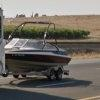Boat: (3, 18, 74, 79)
